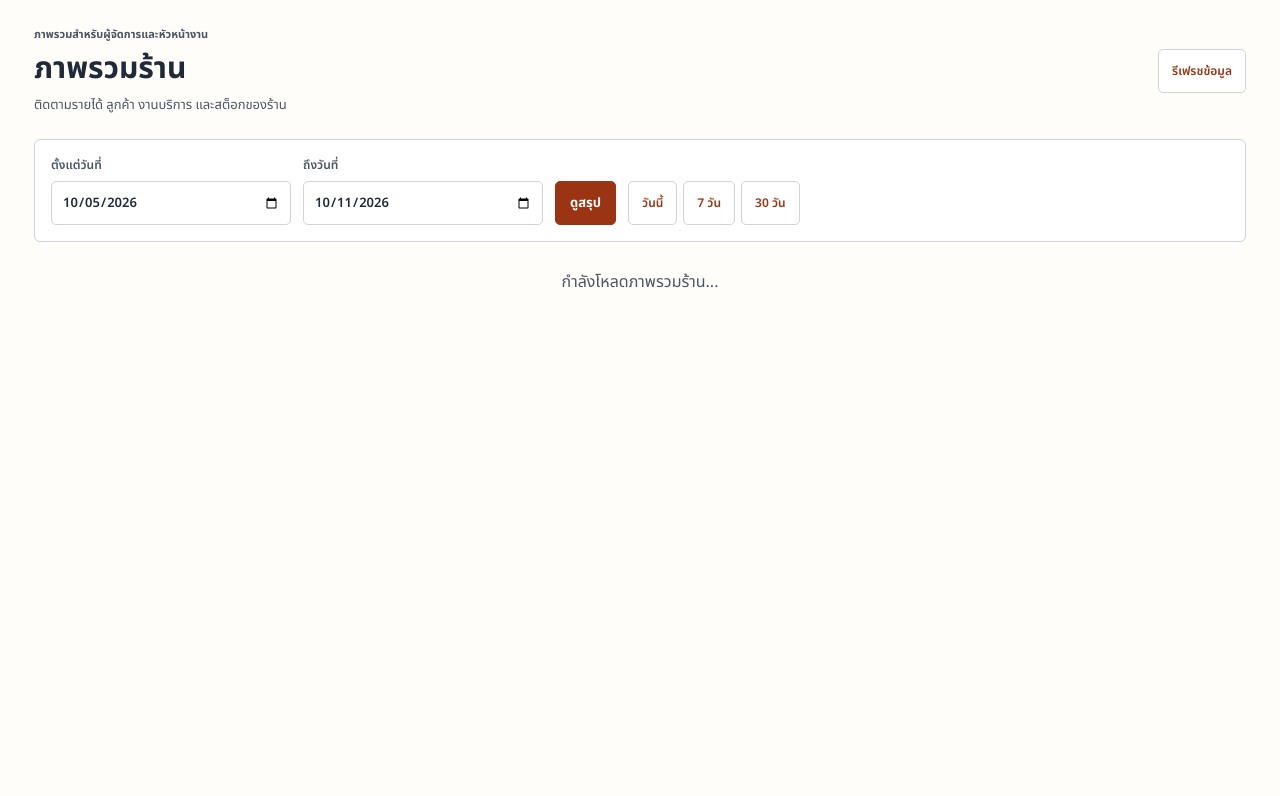
Scenario: Dashboard › ignores a late response from a previously selected range
This screenshot has width=1280, height=796.
Expected: the message shows "กำลังโหลด", [562,270,718,294]
Click the button "วันนี้" at (653, 203), box [628,181,677,225]
(page scrolled)
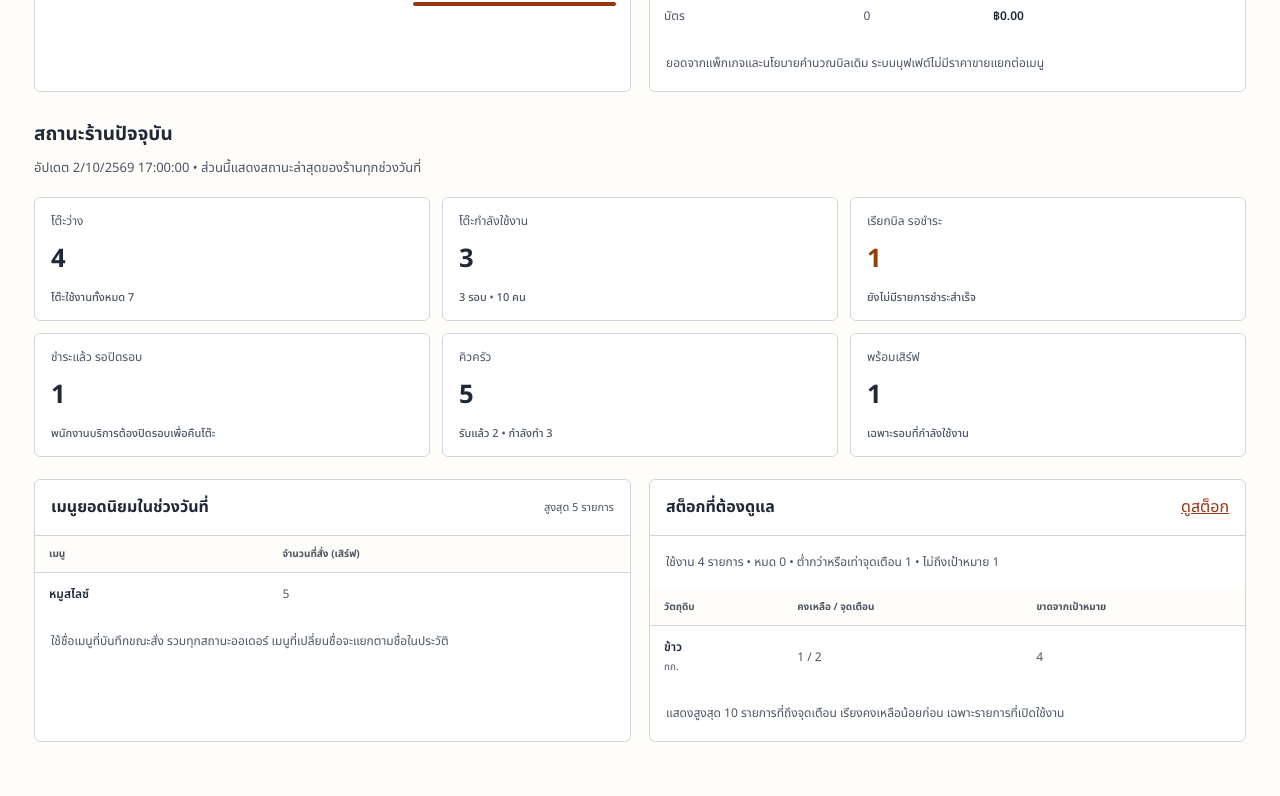
Expected: the text "หมูสไลซ์" is shown, [49,585,89,603]
